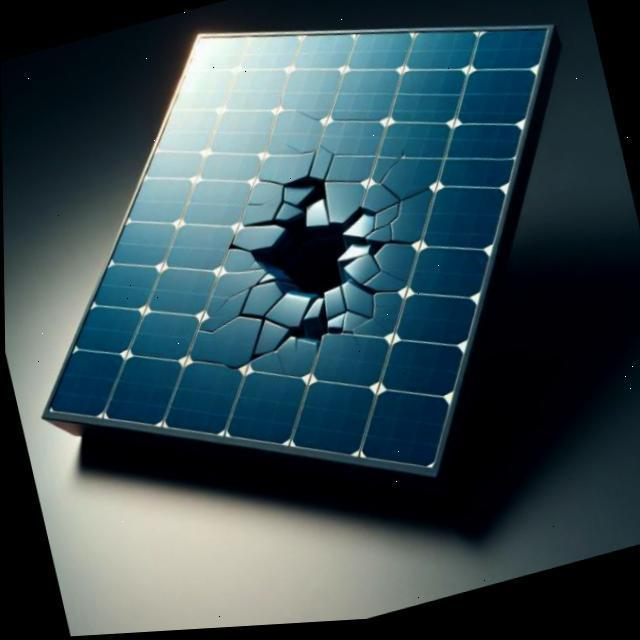Anomaly Solar Panel: (43, 0, 547, 496)
Structural Damage: (205, 149, 429, 372), (171, 268, 308, 399), (372, 148, 408, 191), (292, 112, 321, 127)
